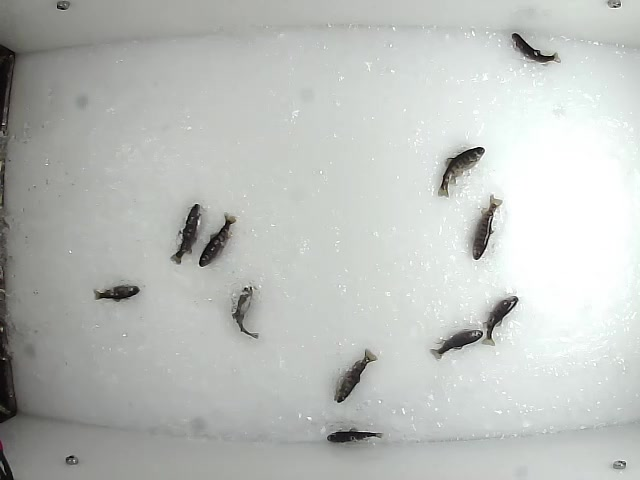fish: (434, 144, 487, 199), (334, 346, 379, 405), (196, 209, 239, 270), (469, 194, 504, 263), (167, 200, 203, 266), (509, 31, 564, 69), (479, 296, 519, 348), (230, 284, 264, 341), (428, 328, 484, 362), (324, 425, 385, 445), (91, 283, 142, 303)
